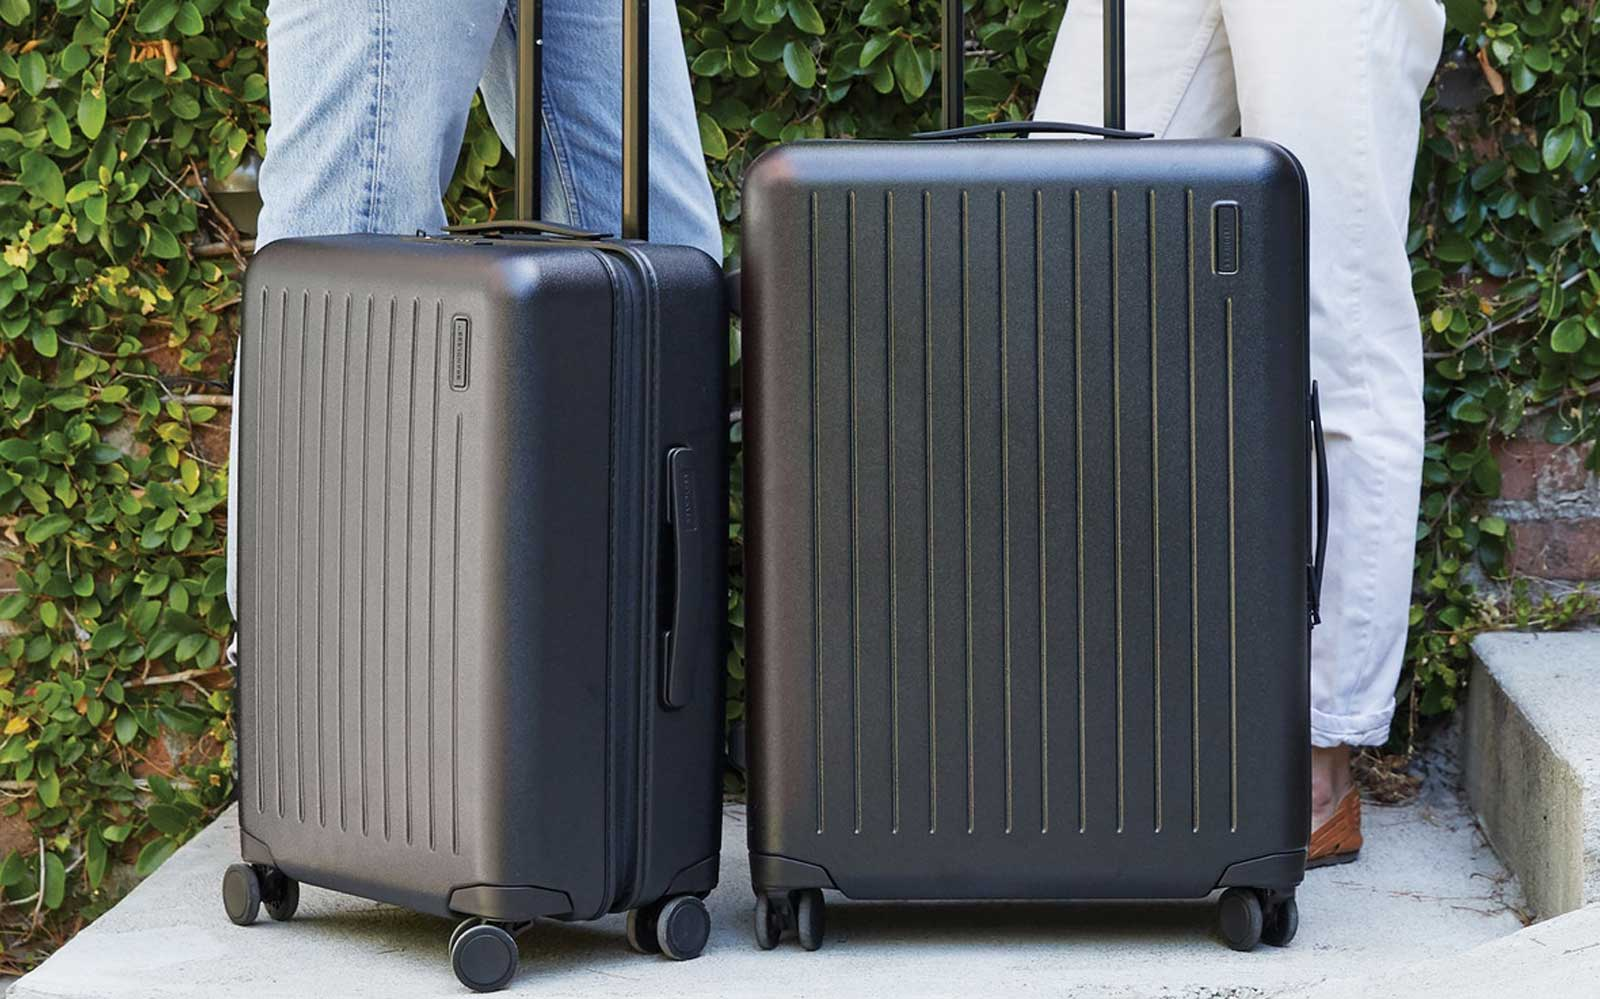luggage: (732, 110, 1321, 973), (227, 221, 721, 964)
